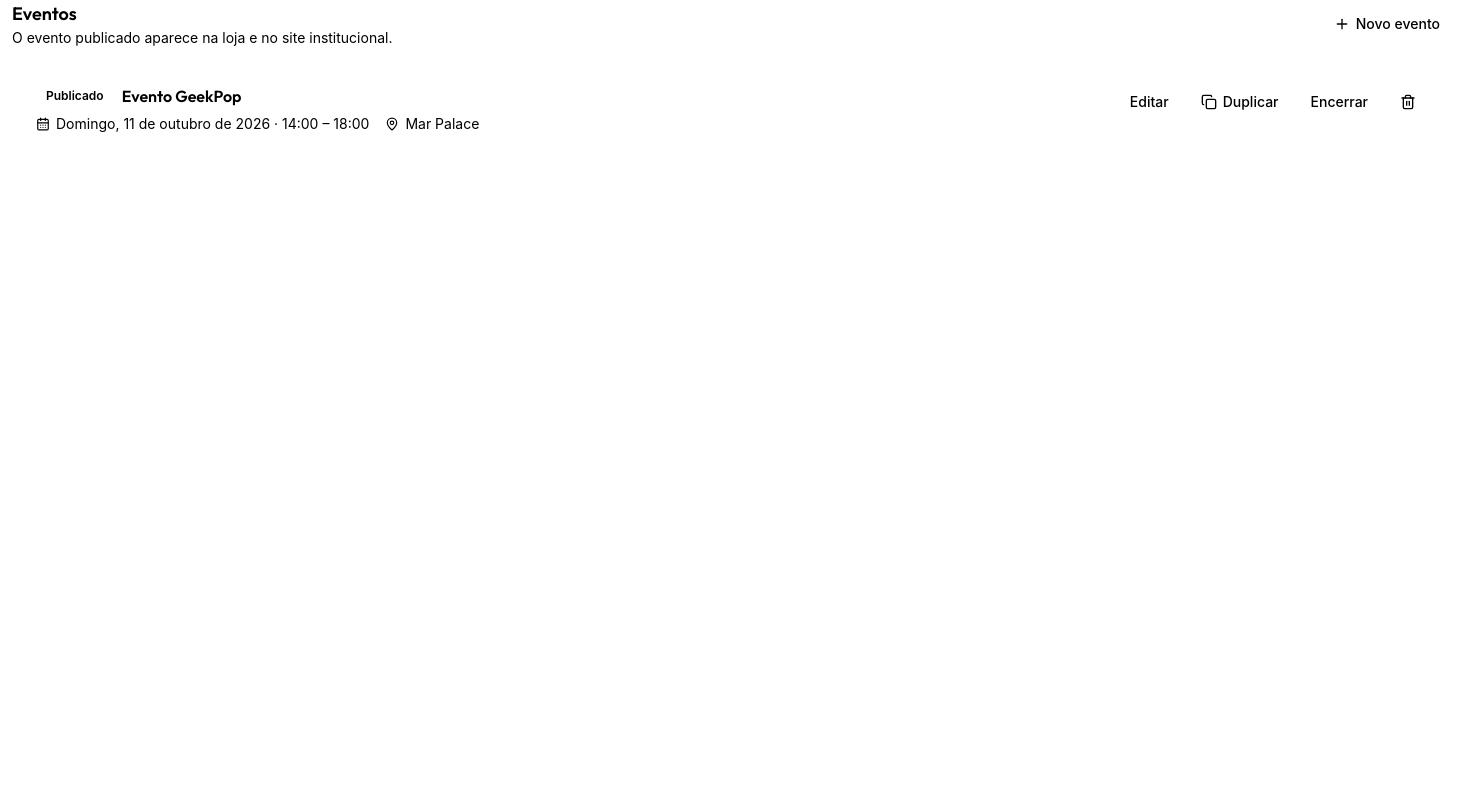
it: EventConfigTab — flyers and links › stops offering uploads at the cap
What coordinates should you click on to do the following:
click the button "Editar"
I would click on:
 (1149, 102)
Its box is left=1118, top=84, right=1181, bottom=120.
(page scrolled)
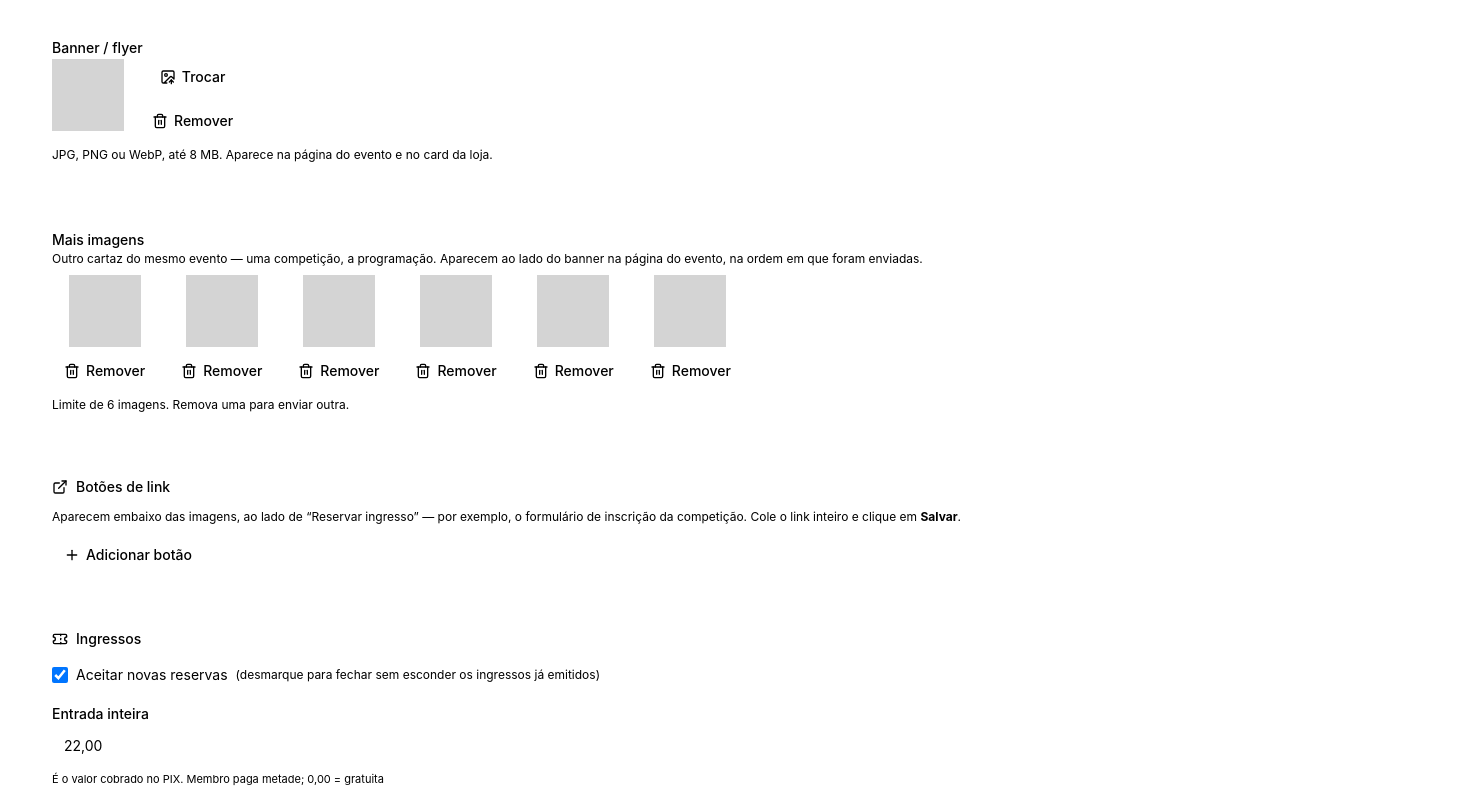
Expected: the text "Limite de 6 imagens. Remova uma para enviar outra." is shown, left=52, top=397, right=349, bottom=412
